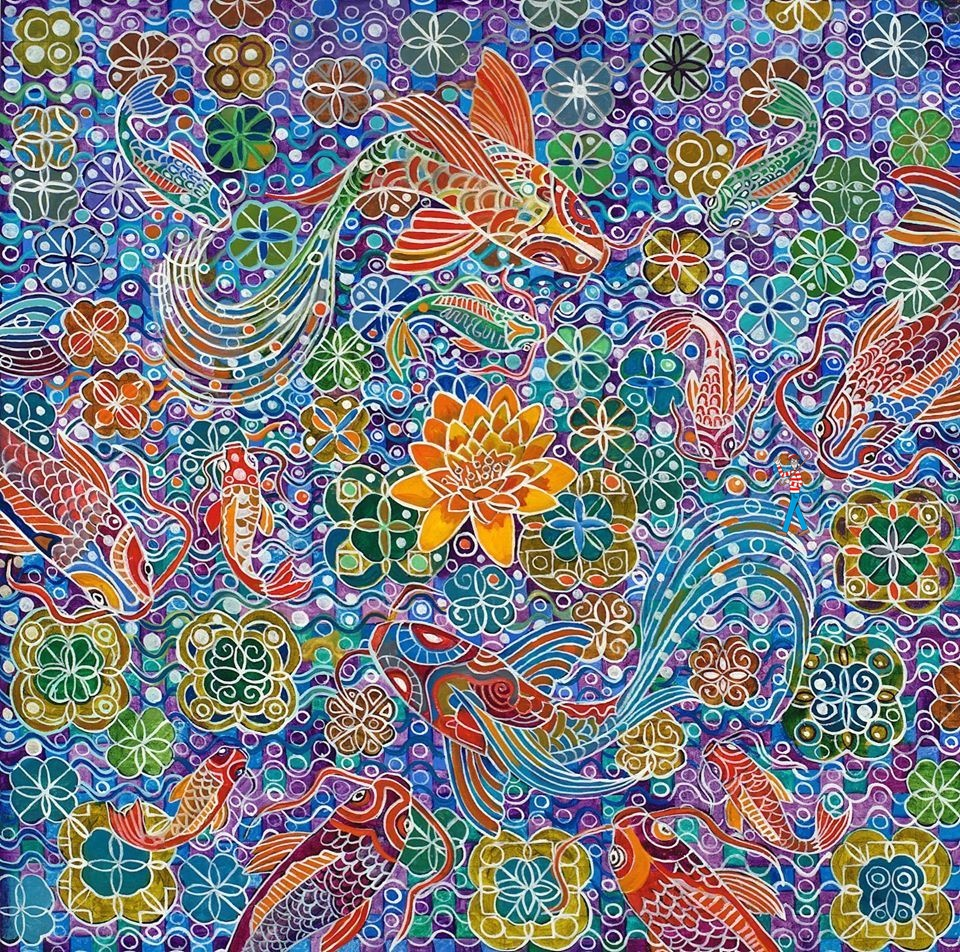waldo: (773, 453, 810, 537)
